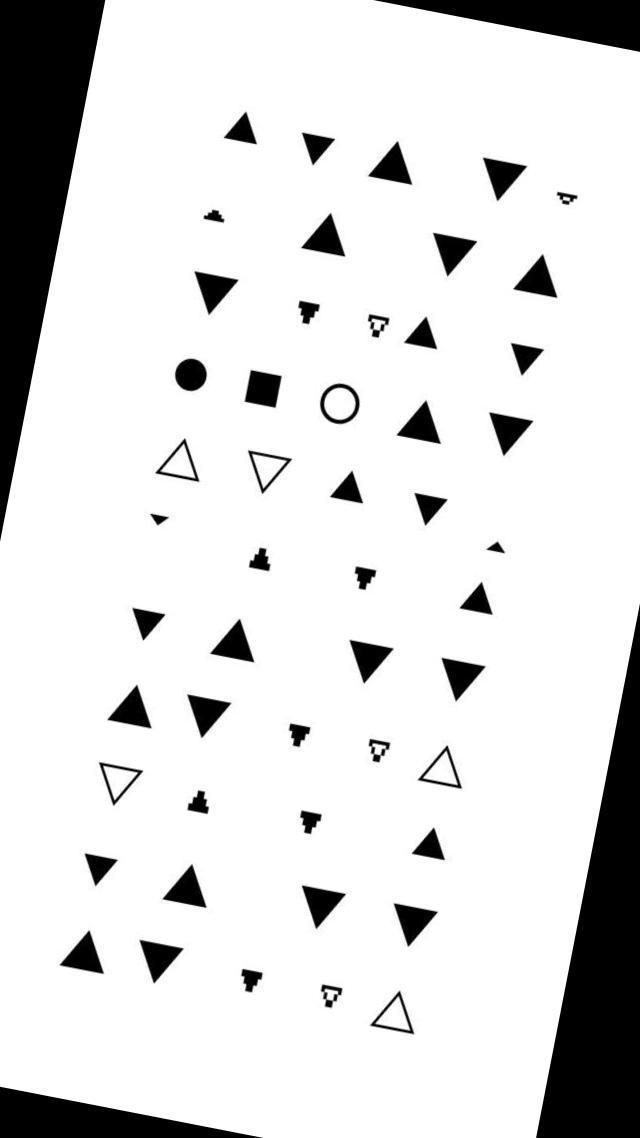ASCII: (477, 397, 541, 468), (180, 256, 244, 326), (471, 143, 534, 214), (420, 220, 482, 290), (429, 647, 493, 711), (390, 390, 452, 456), (158, 852, 220, 918), (508, 244, 570, 309), (54, 920, 114, 987), (295, 203, 356, 268), (362, 131, 423, 196), (289, 874, 352, 936), (338, 627, 400, 689), (382, 892, 442, 956), (311, 372, 368, 438), (128, 930, 190, 990), (207, 611, 266, 674), (87, 752, 147, 813), (367, 984, 428, 1044), (414, 739, 472, 801), (178, 684, 236, 743), (238, 441, 296, 499), (103, 680, 160, 736), (151, 434, 206, 491), (290, 115, 341, 176), (120, 592, 171, 652), (216, 103, 266, 160), (73, 839, 123, 896), (240, 359, 288, 418), (406, 818, 456, 874), (166, 349, 214, 404), (501, 331, 550, 384), (401, 308, 447, 362), (404, 483, 452, 532), (324, 463, 372, 511), (457, 573, 502, 622), (242, 532, 282, 584), (279, 707, 318, 758), (232, 953, 270, 1004), (311, 972, 349, 1022), (292, 794, 330, 844), (180, 774, 218, 824), (359, 726, 396, 774), (347, 550, 383, 599), (196, 193, 234, 238), (547, 176, 584, 221), (290, 290, 326, 336), (359, 303, 395, 349), (140, 499, 176, 540), (478, 526, 512, 568)
